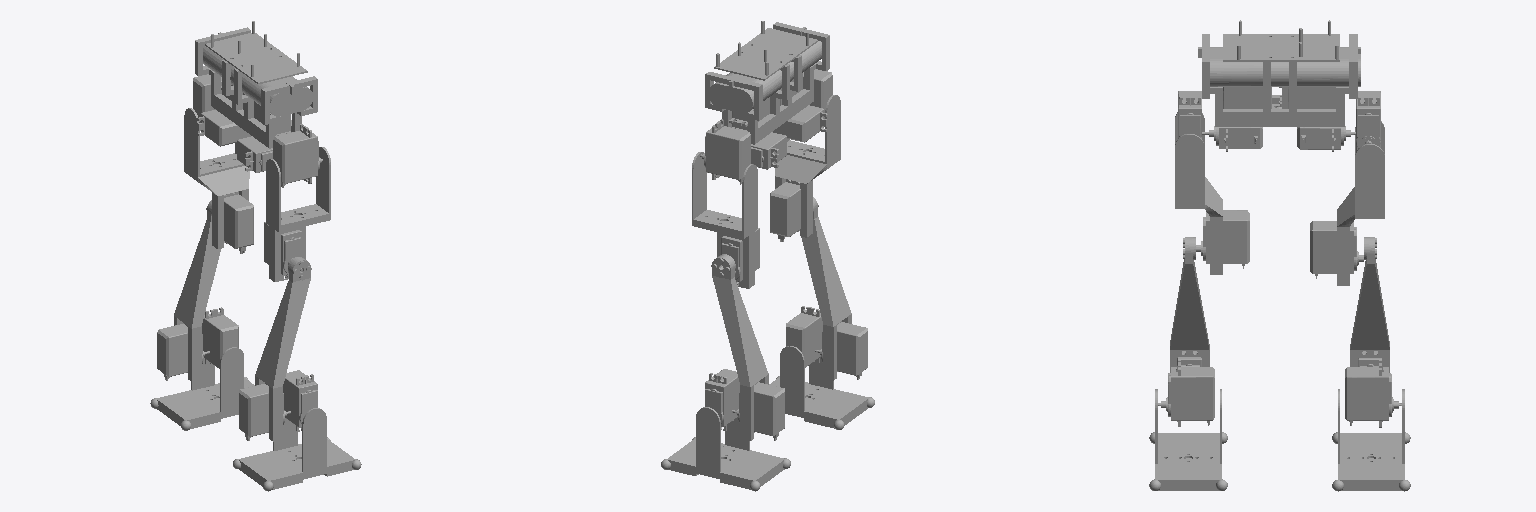
--- What the picture shows (computed from the rendered views, not written in the file) ---
The picture shows the robot from 3 angles, left to right: view 1: azimuth 30°, elevation 25°; view 2: azimuth 150°, elevation 25°; view 3: azimuth 270°, elevation 25°; orthographic projection.
Robot: URDF — 23 links, 22 joints (14 continuous, 8 fixed); root link base_link; default pose: every joint at zero.
Visible links, largest first — view 1: base_link, l5_1, r4_1, r5_1, l7_1, l4_1, r7_1, l3_1, r6_1, l6_1, r2_1, l2_1 (+1 smaller); view 2: base_link, r5_1, l5_1, l4_1, r7_1, r4_1, l7_1, r3_1, l6_1, r6_1, l2_1, r2_1 (+1 smaller); view 3: base_link, l4_1, r4_1, l7_1, r7_1, l5_1, r5_1, r6_1, l6_1, r3_1, r2_1, l2_1 (+1 smaller).
Boxes of the visible links, x1,y1,x2,y2 form: base_link: [195, 21, 317, 148]; l5_1: [239, 257, 311, 441]; r4_1: [184, 108, 253, 253]; r5_1: [157, 200, 220, 381]; l7_1: [239, 408, 355, 489]; l4_1: [264, 147, 330, 281]; r7_1: [156, 347, 254, 428]; l3_1: [273, 124, 322, 187]; r6_1: [202, 307, 238, 368]; l6_1: [283, 370, 317, 431]; r2_1: [197, 110, 250, 146]; l2_1: [237, 136, 272, 172]; base_link: [705, 21, 829, 144]; r5_1: [711, 254, 784, 440]; l5_1: [801, 197, 867, 380]; l4_1: [770, 95, 840, 241]; r7_1: [666, 407, 784, 489]; r4_1: [692, 152, 759, 288]; l7_1: [769, 346, 868, 428]; r3_1: [700, 119, 750, 184]; l6_1: [786, 306, 822, 367]; r6_1: [705, 369, 739, 431]; l2_1: [773, 105, 827, 142]; r2_1: [751, 132, 786, 169]; base_link: [1198, 20, 1360, 126]; l4_1: [1175, 112, 1249, 274]; r4_1: [1310, 121, 1384, 285]; l7_1: [1155, 389, 1221, 490]; r7_1: [1338, 389, 1404, 490]; l5_1: [1170, 237, 1209, 372]; r5_1: [1350, 237, 1389, 372]; r6_1: [1345, 360, 1401, 427]; l6_1: [1158, 360, 1214, 426]; r3_1: [1356, 91, 1380, 151]; r2_1: [1297, 126, 1355, 151]; l2_1: [1202, 126, 1262, 151].
Size in the robot's own frame: 0.11 by 0.2196 by 0.403 metres.
Meshes: 23 distinct files referenced, 23 mesh visuals loaded (23 binary STL).

The robot description file, URDF, robot "URDF":
<?xml version="1.0" ?>
<!-- =================================================================================== -->
<!-- |    This document was autogenerated by xacro from urdf/URDF.xacro                | -->
<!-- |    EDITING THIS FILE BY HAND IS NOT RECOMMENDED                                 | -->
<!-- =================================================================================== -->
<robot xmlns:xacro="http://www.ros.org/wiki/xacro" name="URDF">
  <material name="silver">
    <color rgba="0.700 0.700 0.700 1.000"/>
  </material>
  <transmission name="Revolute 46_tran">
    <type>transmission_interface/SimpleTransmission</type>
    <joint name="Revolute 46">
      <hardwareInterface>hardware_interface/EffortJointInterface</hardwareInterface>
    </joint>
    <actuator name="Revolute 46_actr">
      <hardwareInterface>hardware_interface/EffortJointInterface</hardwareInterface>
      <mechanicalReduction>1</mechanicalReduction>
    </actuator>
  </transmission>
  <transmission name="Revolute 54_tran">
    <type>transmission_interface/SimpleTransmission</type>
    <joint name="Revolute 54">
      <hardwareInterface>hardware_interface/EffortJointInterface</hardwareInterface>
    </joint>
    <actuator name="Revolute 54_actr">
      <hardwareInterface>hardware_interface/EffortJointInterface</hardwareInterface>
      <mechanicalReduction>1</mechanicalReduction>
    </actuator>
  </transmission>
  <transmission name="Revolute 66_tran">
    <type>transmission_interface/SimpleTransmission</type>
    <joint name="Revolute 66">
      <hardwareInterface>hardware_interface/EffortJointInterface</hardwareInterface>
    </joint>
    <actuator name="Revolute 66_actr">
      <hardwareInterface>hardware_interface/EffortJointInterface</hardwareInterface>
      <mechanicalReduction>1</mechanicalReduction>
    </actuator>
  </transmission>
  <transmission name="Revolute 67_tran">
    <type>transmission_interface/SimpleTransmission</type>
    <joint name="Revolute 67">
      <hardwareInterface>hardware_interface/EffortJointInterface</hardwareInterface>
    </joint>
    <actuator name="Revolute 67_actr">
      <hardwareInterface>hardware_interface/EffortJointInterface</hardwareInterface>
      <mechanicalReduction>1</mechanicalReduction>
    </actuator>
  </transmission>
  <transmission name="Revolute 68_tran">
    <type>transmission_interface/SimpleTransmission</type>
    <joint name="Revolute 68">
      <hardwareInterface>hardware_interface/EffortJointInterface</hardwareInterface>
    </joint>
    <actuator name="Revolute 68_actr">
      <hardwareInterface>hardware_interface/EffortJointInterface</hardwareInterface>
      <mechanicalReduction>1</mechanicalReduction>
    </actuator>
  </transmission>
  <transmission name="Revolute 69_tran">
    <type>transmission_interface/SimpleTransmission</type>
    <joint name="Revolute 69">
      <hardwareInterface>hardware_interface/EffortJointInterface</hardwareInterface>
    </joint>
    <actuator name="Revolute 69_actr">
      <hardwareInterface>hardware_interface/EffortJointInterface</hardwareInterface>
      <mechanicalReduction>1</mechanicalReduction>
    </actuator>
  </transmission>
  <transmission name="Revolute 70_tran">
    <type>transmission_interface/SimpleTransmission</type>
    <joint name="Revolute 70">
      <hardwareInterface>hardware_interface/EffortJointInterface</hardwareInterface>
    </joint>
    <actuator name="Revolute 70_actr">
      <hardwareInterface>hardware_interface/EffortJointInterface</hardwareInterface>
      <mechanicalReduction>1</mechanicalReduction>
    </actuator>
  </transmission>
  <transmission name="Revolute 71_tran">
    <type>transmission_interface/SimpleTransmission</type>
    <joint name="Revolute 71">
      <hardwareInterface>hardware_interface/EffortJointInterface</hardwareInterface>
    </joint>
    <actuator name="Revolute 71_actr">
      <hardwareInterface>hardware_interface/EffortJointInterface</hardwareInterface>
      <mechanicalReduction>1</mechanicalReduction>
    </actuator>
  </transmission>
  <transmission name="Revolute 72_tran">
    <type>transmission_interface/SimpleTransmission</type>
    <joint name="Revolute 72">
      <hardwareInterface>hardware_interface/EffortJointInterface</hardwareInterface>
    </joint>
    <actuator name="Revolute 72_actr">
      <hardwareInterface>hardware_interface/EffortJointInterface</hardwareInterface>
      <mechanicalReduction>1</mechanicalReduction>
    </actuator>
  </transmission>
  <transmission name="Revolute 73_tran">
    <type>transmission_interface/SimpleTransmission</type>
    <joint name="Revolute 73">
      <hardwareInterface>hardware_interface/EffortJointInterface</hardwareInterface>
    </joint>
    <actuator name="Revolute 73_actr">
      <hardwareInterface>hardware_interface/EffortJointInterface</hardwareInterface>
      <mechanicalReduction>1</mechanicalReduction>
    </actuator>
  </transmission>
  <transmission name="Revolute 90_tran">
    <type>transmission_interface/SimpleTransmission</type>
    <joint name="Revolute 90">
      <hardwareInterface>hardware_interface/EffortJointInterface</hardwareInterface>
    </joint>
    <actuator name="Revolute 90_actr">
      <hardwareInterface>hardware_interface/EffortJointInterface</hardwareInterface>
      <mechanicalReduction>1</mechanicalReduction>
    </actuator>
  </transmission>
  <transmission name="Revolute 91_tran">
    <type>transmission_interface/SimpleTransmission</type>
    <joint name="Revolute 91">
      <hardwareInterface>hardware_interface/EffortJointInterface</hardwareInterface>
    </joint>
    <actuator name="Revolute 91_actr">
      <hardwareInterface>hardware_interface/EffortJointInterface</hardwareInterface>
      <mechanicalReduction>1</mechanicalReduction>
    </actuator>
  </transmission>
  <transmission name="Revolute 92_tran">
    <type>transmission_interface/SimpleTransmission</type>
    <joint name="Revolute 92">
      <hardwareInterface>hardware_interface/EffortJointInterface</hardwareInterface>
    </joint>
    <actuator name="Revolute 92_actr">
      <hardwareInterface>hardware_interface/EffortJointInterface</hardwareInterface>
      <mechanicalReduction>1</mechanicalReduction>
    </actuator>
  </transmission>
  <transmission name="Revolute 93_tran">
    <type>transmission_interface/SimpleTransmission</type>
    <joint name="Revolute 93">
      <hardwareInterface>hardware_interface/EffortJointInterface</hardwareInterface>
    </joint>
    <actuator name="Revolute 93_actr">
      <hardwareInterface>hardware_interface/EffortJointInterface</hardwareInterface>
      <mechanicalReduction>1</mechanicalReduction>
    </actuator>
  </transmission>
  <gazebo>
    <plugin name="control" filename="libgazebo_ros_control.so"/>
  </gazebo>
  <gazebo reference="base_link">
    <material>Gazebo/Silver</material>
    <mu1>0.2</mu1>
    <mu2>0.2</mu2>
    <selfCollide>true</selfCollide>
    <gravity>true</gravity>
  </gazebo>
  <gazebo reference="l3_1">
    <material>Gazebo/Silver</material>
    <mu1>0.2</mu1>
    <mu2>0.2</mu2>
    <selfCollide>true</selfCollide>
  </gazebo>
  <gazebo reference="r3_1">
    <material>Gazebo/Silver</material>
    <mu1>0.2</mu1>
    <mu2>0.2</mu2>
    <selfCollide>true</selfCollide>
  </gazebo>
  <gazebo reference="l4_1">
    <material>Gazebo/Silver</material>
    <mu1>0.2</mu1>
    <mu2>0.2</mu2>
    <selfCollide>true</selfCollide>
  </gazebo>
  <gazebo reference="l5_1">
    <material>Gazebo/Silver</material>
    <mu1>0.2</mu1>
    <mu2>0.2</mu2>
    <selfCollide>true</selfCollide>
  </gazebo>
  <gazebo reference="l6_1">
    <material>Gazebo/Silver</material>
    <mu1>0.2</mu1>
    <mu2>0.2</mu2>
    <selfCollide>true</selfCollide>
  </gazebo>
  <gazebo reference="l7_1">
    <material>Gazebo/Silver</material>
    <mu1>0.2</mu1>
    <mu2>0.2</mu2>
    <selfCollide>true</selfCollide>
  </gazebo>
  <gazebo reference="r4_1">
    <material>Gazebo/Silver</material>
    <mu1>0.2</mu1>
    <mu2>0.2</mu2>
    <selfCollide>true</selfCollide>
  </gazebo>
  <gazebo reference="r5_1">
    <material>Gazebo/Silver</material>
    <mu1>0.2</mu1>
    <mu2>0.2</mu2>
    <selfCollide>true</selfCollide>
  </gazebo>
  <gazebo reference="r6_1">
    <material>Gazebo/Silver</material>
    <mu1>0.2</mu1>
    <mu2>0.2</mu2>
    <selfCollide>true</selfCollide>
  </gazebo>
  <gazebo reference="r7_1">
    <material>Gazebo/Silver</material>
    <mu1>0.2</mu1>
    <mu2>0.2</mu2>
    <selfCollide>true</selfCollide>
  </gazebo>
  <gazebo reference="r1_1">
    <material>Gazebo/Silver</material>
    <mu1>0.2</mu1>
    <mu2>0.2</mu2>
    <selfCollide>true</selfCollide>
  </gazebo>
  <gazebo reference="l1_1">
    <material>Gazebo/Silver</material>
    <mu1>0.2</mu1>
    <mu2>0.2</mu2>
    <selfCollide>true</selfCollide>
  </gazebo>
  <gazebo reference="l2_1">
    <material>Gazebo/Silver</material>
    <mu1>0.2</mu1>
    <mu2>0.2</mu2>
    <selfCollide>true</selfCollide>
  </gazebo>
  <gazebo reference="r2_1">
    <material>Gazebo/Silver</material>
    <mu1>0.2</mu1>
    <mu2>0.2</mu2>
    <selfCollide>true</selfCollide>
  </gazebo>
  <gazebo reference="Component135_1">
    <material>Gazebo/Silver</material>
    <mu1>0.2</mu1>
    <mu2>0.2</mu2>
    <selfCollide>true</selfCollide>
  </gazebo>
  <gazebo reference="Component136_1">
    <material>Gazebo/Silver</material>
    <mu1>0.2</mu1>
    <mu2>0.2</mu2>
    <selfCollide>true</selfCollide>
  </gazebo>
  <gazebo reference="Component137_1">
    <material>Gazebo/Silver</material>
    <mu1>0.2</mu1>
    <mu2>0.2</mu2>
    <selfCollide>true</selfCollide>
  </gazebo>
  <gazebo reference="Component138_1">
    <material>Gazebo/Silver</material>
    <mu1>0.2</mu1>
    <mu2>0.2</mu2>
    <selfCollide>true</selfCollide>
  </gazebo>
  <gazebo reference="Component139_1">
    <material>Gazebo/Silver</material>
    <mu1>0.2</mu1>
    <mu2>0.2</mu2>
    <selfCollide>true</selfCollide>
  </gazebo>
  <gazebo reference="Component140_1">
    <material>Gazebo/Silver</material>
    <mu1>0.2</mu1>
    <mu2>0.2</mu2>
    <selfCollide>true</selfCollide>
  </gazebo>
  <gazebo reference="Component141_1">
    <material>Gazebo/Silver</material>
    <mu1>0.2</mu1>
    <mu2>0.2</mu2>
    <selfCollide>true</selfCollide>
  </gazebo>
  <gazebo reference="Component142_1">
    <material>Gazebo/Silver</material>
    <mu1>0.2</mu1>
    <mu2>0.2</mu2>
    <selfCollide>true</selfCollide>
  </gazebo>
  <link name="base_link">
    <inertial>
      <origin xyz="-0.011771950657531978 0.009504064144816108 0.37571758600306054" rpy="0 0 0"/>
      <mass value="1.511497628813241"/>
      <inertia ixx="0.002624" iyy="0.000685" izz="0.00252" ixy="-0.0" iyz="-1e-05" ixz="-1e-06"/>
    </inertial>
    <visual>
      <origin xyz="0 0 0" rpy="0 0 0"/>
      <geometry>
        <mesh filename="package://URDF_description/meshes/base_link.stl" scale="0.001 0.001 0.001"/>
      </geometry>
      <material name="silver"/>
    </visual>
    <collision>
      <origin xyz="0 0 0" rpy="0 0 0"/>
      <geometry>
        <mesh filename="package://URDF_description/meshes/base_link.stl" scale="0.001 0.001 0.001"/>
      </geometry>
    </collision>
  </link>
  <link name="l3_1">
    <inertial>
      <origin xyz="-0.0010554319034483655 -0.010177955025811834 0.009960650853470643" rpy="0 0 0"/>
      <mass value="0.2605710862815951"/>
      <inertia ixx="4.6e-05" iyy="7.1e-05" izz="4.2e-05" ixy="0.0" iyz="-0.0" ixz="1e-06"/>
    </inertial>
    <visual>
      <origin xyz="0.01125 0.056859 -0.309943" rpy="0 0 0"/>
      <geometry>
        <mesh filename="package://URDF_description/meshes/l3_1.stl" scale="0.001 0.001 0.001"/>
      </geometry>
      <material name="silver"/>
    </visual>
    <collision>
      <origin xyz="0.01125 0.056859 -0.309943" rpy="0 0 0"/>
      <geometry>
        <mesh filename="package://URDF_description/meshes/l3_1.stl" scale="0.001 0.001 0.001"/>
      </geometry>
    </collision>
  </link>
  <link name="r3_1">
    <inertial>
      <origin xyz="-0.0013721079730043672 0.010183257082743855 0.009960176961555767" rpy="0 0 0"/>
      <mass value="0.26058347817133687"/>
      <inertia ixx="4.6e-05" iyy="7.1e-05" izz="4.2e-05" ixy="-0.0" iyz="0.0" ixz="1e-06"/>
    </inertial>
    <visual>
      <origin xyz="0.010932 -0.07264 -0.309936" rpy="0 0 0"/>
      <geometry>
        <mesh filename="package://URDF_description/meshes/r3_1.stl" scale="0.001 0.001 0.001"/>
      </geometry>
      <material name="silver"/>
    </visual>
    <collision>
      <origin xyz="0.010932 -0.07264 -0.309936" rpy="0 0 0"/>
      <geometry>
        <mesh filename="package://URDF_description/meshes/r3_1.stl" scale="0.001 0.001 0.001"/>
      </geometry>
    </collision>
  </link>
  <link name="l4_1">
    <inertial>
      <origin xyz="-0.025108010465582926 0.020534482343404367 -0.07938539914440731" rpy="0 0 0"/>
      <mass value="0.4795683297989441"/>
      <inertia ixx="0.0005" iyy="0.000461" izz="0.000198" ixy="-3e-06" iyz="0.000142" ixz="6e-06"/>
    </inertial>
    <visual>
      <origin xyz="-0.015754 0.067037 -0.309943" rpy="0 0 0"/>
      <geometry>
        <mesh filename="package://URDF_description/meshes/l4_1.stl" scale="0.001 0.001 0.001"/>
      </geometry>
      <material name="silver"/>
    </visual>
    <collision>
      <origin xyz="-0.015754 0.067037 -0.309943" rpy="0 0 0"/>
      <geometry>
        <mesh filename="package://URDF_description/meshes/l4_1.stl" scale="0.001 0.001 0.001"/>
      </geometry>
    </collision>
  </link>
  <link name="l5_1">
    <inertial>
      <origin xyz="-0.029491082579912755 0.0039567541577464616 -0.10160071158979485" rpy="0 0 0"/>
      <mass value="0.5723786894338777"/>
      <inertia ixx="0.001158" iyy="0.001268" izz="0.00017" ixy="1e-06" iyz="2e-06" ixz="-0.000323"/>
    </inertial>
    <visual>
      <origin xyz="0.009024 0.071577 -0.204349" rpy="0 0 0"/>
      <geometry>
        <mesh filename="package://URDF_description/meshes/l5_1.stl" scale="0.001 0.001 0.001"/>
      </geometry>
      <material name="silver"/>
    </visual>
    <collision>
      <origin xyz="0.009024 0.071577 -0.204349" rpy="0 0 0"/>
      <geometry>
        <mesh filename="package://URDF_description/meshes/l5_1.stl" scale="0.001 0.001 0.001"/>
      </geometry>
    </collision>
  </link>
  <link name="l6_1">
    <inertial>
      <origin xyz="0.010148909868078046 0.0014454123231732174 0.009960197157854983" rpy="0 0 0"/>
      <mass value="0.260583085238151"/>
      <inertia ixx="7.1e-05" iyy="4.6e-05" izz="4.2e-05" ixy="0.0" iyz="-1e-06" ixz="0.0"/>
    </inertial>
    <visual>
      <origin xyz="0.018503 0.067568 -0.059644" rpy="0 0 0"/>
      <geometry>
        <mesh filename="package://URDF_description/meshes/l6_1.stl" scale="0.001 0.001 0.001"/>
      </geometry>
      <material name="silver"/>
    </visual>
    <collision>
      <origin xyz="0.018503 0.067568 -0.059644" rpy="0 0 0"/>
      <geometry>
        <mesh filename="package://URDF_description/meshes/l6_1.stl" scale="0.001 0.001 0.001"/>
      </geometry>
    </collision>
  </link>
  <link name="l7_1">
    <inertial>
      <origin xyz="-0.0038360250370360807 0.0260878632088187 -0.05053371254011363" rpy="0 0 0"/>
      <mass value="0.42535185084301863"/>
      <inertia ixx="0.000201" iyy="0.000374" izz="0.000441" ixy="-0.0" iyz="-0.0" ixz="-5e-06"/>
    </inertial>
    <visual>
      <origin xyz="0.008354 0.094498 -0.059644" rpy="0 0 0"/>
      <geometry>
        <mesh filename="package://URDF_description/meshes/l7_1.stl" scale="0.001 0.001 0.001"/>
      </geometry>
      <material name="silver"/>
    </visual>
    <collision>
      <origin xyz="0.008354 0.094498 -0.059644" rpy="0 0 0"/>
      <geometry>
        <mesh filename="package://URDF_description/meshes/l7_1.stl" scale="0.001 0.001 0.001"/>
      </geometry>
    </collision>
  </link>
  <link name="r4_1">
    <inertial>
      <origin xyz="-0.025086134509350884 -0.019584458432277033 -0.079385774761916" rpy="0 0 0"/>
      <mass value="0.4795660415586759"/>
      <inertia ixx="0.0005" iyy="0.000461" izz="0.000198" ixy="3e-06" iyz="-0.000142" ixz="6e-06"/>
    </inertial>
    <visual>
      <origin xyz="-0.016072 -0.082823 -0.309936" rpy="0 0 0"/>
      <geometry>
        <mesh filename="package://URDF_description/meshes/r4_1.stl" scale="0.001 0.001 0.001"/>
      </geometry>
      <material name="silver"/>
    </visual>
    <collision>
      <origin xyz="-0.016072 -0.082823 -0.309936" rpy="0 0 0"/>
      <geometry>
        <mesh filename="package://URDF_description/meshes/r4_1.stl" scale="0.001 0.001 0.001"/>
      </geometry>
    </collision>
  </link>
  <link name="r5_1">
    <inertial>
      <origin xyz="-0.029491076838213486 -0.003956632577474542 -0.10160065771634212" rpy="0 0 0"/>
      <mass value="0.5723780660401575"/>
      <inertia ixx="0.001158" iyy="0.001268" izz="0.00017" ixy="-1e-06" iyz="-2e-06" ixz="-0.000323"/>
    </inertial>
    <visual>
      <origin xyz="0.008684 -0.088313 -0.204342" rpy="0 0 0"/>
      <geometry>
        <mesh filename="package://URDF_description/meshes/r5_1.stl" scale="0.001 0.001 0.001"/>
      </geometry>
      <material name="silver"/>
    </visual>
    <collision>
      <origin xyz="0.008684 -0.088313 -0.204342" rpy="0 0 0"/>
      <geometry>
        <mesh filename="package://URDF_description/meshes/r5_1.stl" scale="0.001 0.001 0.001"/>
      </geometry>
    </collision>
  </link>
  <link name="r6_1">
    <inertial>
      <origin xyz="0.010216801636088587 -0.0014452836669605895 0.009960098254530765" rpy="0 0 0"/>
      <mass value="0.26058568857338693"/>
      <inertia ixx="7.1e-05" iyy="4.6e-05" izz="4.2e-05" ixy="-0.0" iyz="1e-06" ixz="0.0"/>
    </inertial>
    <visual>
      <origin xyz="0.018163 -0.084304 -0.059637" rpy="0 0 0"/>
      <geometry>
        <mesh filename="package://URDF_description/meshes/r6_1.stl" scale="0.001 0.001 0.001"/>
      </geometry>
      <material name="silver"/>
    </visual>
    <collision>
      <origin xyz="0.018163 -0.084304 -0.059637" rpy="0 0 0"/>
      <geometry>
        <mesh filename="package://URDF_description/meshes/r6_1.stl" scale="0.001 0.001 0.001"/>
      </geometry>
    </collision>
  </link>
  <link name="r7_1">
    <inertial>
      <origin xyz="-0.003836011886673152 -0.025999620351597932 -0.05053346533032452" rpy="0 0 0"/>
      <mass value="0.42535393165731183"/>
      <inertia ixx="0.000201" iyy="0.000374" izz="0.000441" ixy="0.0" iyz="0.0" ixz="-5e-06"/>
    </inertial>
    <visual>
      <origin xyz="0.007946 -0.111234 -0.059637" rpy="0 0 0"/>
      <geometry>
        <mesh filename="package://URDF_description/meshes/r7_1.stl" scale="0.001 0.001 0.001"/>
      </geometry>
      <material name="silver"/>
    </visual>
    <collision>
      <origin xyz="0.007946 -0.111234 -0.059637" rpy="0 0 0"/>
      <geometry>
        <mesh filename="package://URDF_description/meshes/r7_1.stl" scale="0.001 0.001 0.001"/>
      </geometry>
    </collision>
  </link>
  <link name="r1_1">
    <inertial>
      <origin xyz="0.0004996878831269973 0.02734500634448448 0.008967935691079287" rpy="0 0 0"/>
      <mass value="0.260645951134301"/>
      <inertia ixx="7.1e-05" iyy="4.2e-05" izz="4.6e-05" ixy="0.0" iyz="1e-06" ixz="0.0"/>
    </inertial>
    <visual>
      <origin xyz="0.011804 -0.008368 -0.341585" rpy="0 0 0"/>
      <geometry>
        <mesh filename="package://URDF_description/meshes/r1_1.stl" scale="0.001 0.001 0.001"/>
      </geometry>
      <material name="silver"/>
    </visual>
    <collision>
      <origin xyz="0.011804 -0.008368 -0.341585" rpy="0 0 0"/>
      <geometry>
        <mesh filename="package://URDF_description/meshes/r1_1.stl" scale="0.001 0.001 0.001"/>
      </geometry>
    </collision>
  </link>
  <link name="l1_1">
    <inertial>
      <origin xyz="0.0001816438125570169 -0.027343644786196337 0.008967461952591682" rpy="0 0 0"/>
      <mass value="0.260658112795213"/>
      <inertia ixx="7.1e-05" iyy="4.2e-05" izz="4.6e-05" ixy="-0.0" iyz="-1e-06" ixz="0.0"/>
    </inertial>
    <visual>
      <origin xyz="0.011804 -0.008368 -0.341585" rpy="0 0 0"/>
      <geometry>
        <mesh filename="package://URDF_description/meshes/l1_1.stl" scale="0.001 0.001 0.001"/>
      </geometry>
      <material name="silver"/>
    </visual>
    <collision>
      <origin xyz="0.011804 -0.008368 -0.341585" rpy="0 0 0"/>
      <geometry>
        <mesh filename="package://URDF_description/meshes/l1_1.stl" scale="0.001 0.001 0.001"/>
      </geometry>
    </collision>
  </link>
  <link name="l2_1">
    <inertial>
      <origin xyz="-0.009584482225170093 0.002892011357414799 -0.010241995308191532" rpy="0 0 0"/>
      <mass value="0.2606766909017712"/>
      <inertia ixx="4.2e-05" iyy="4.6e-05" izz="7.1e-05" ixy="1e-06" iyz="-0.0" ixz="0.0"/>
    </inertial>
    <visual>
      <origin xyz="0.011622 0.028932 -0.320185" rpy="0 0 0"/>
      <geometry>
        <mesh filename="package://URDF_description/meshes/l2_1.stl" scale="0.001 0.001 0.001"/>
      </geometry>
      <material name="silver"/>
    </visual>
    <collision>
      <origin xyz="0.011622 0.028932 -0.320185" rpy="0 0 0"/>
      <geometry>
        <mesh filename="package://URDF_description/meshes/l2_1.stl" scale="0.001 0.001 0.001"/>
      </geometry>
    </collision>
  </link>
  <link name="r2_1">
    <inertial>
      <origin xyz="-0.00958582114085108 -0.0028961550072012995 -0.010248919205406881" rpy="0 0 0"/>
      <mass value="0.2606418768017664"/>
      <inertia ixx="4.2e-05" iyy="4.6e-05" izz="7.1e-05" ixy="-1e-06" iyz="0.0" ixz="0.0"/>
    </inertial>
    <visual>
      <origin xyz="0.011304 -0.045668 -0.320185" rpy="0 0 0"/>
      <geometry>
        <mesh filename="package://URDF_description/meshes/r2_1.stl" scale="0.001 0.001 0.001"/>
      </geometry>
      <material name="silver"/>
    </visual>
    <collision>
      <origin xyz="0.011304 -0.045668 -0.320185" rpy="0 0 0"/>
      <geometry>
        <mesh filename="package://URDF_description/meshes/r2_1.stl" scale="0.001 0.001 0.001"/>
      </geometry>
    </collision>
  </link>
  <link name="Component135_1">
    <inertial>
      <origin xyz="2.3019366229143357e-07 -3.5453788085892946e-07 8.673617379884035e-18" rpy="0 0 0"/>
      <mass value="0.004110250388446646"/>
      <inertia ixx="0.0" iyy="0.0" izz="0.0" ixy="0.0" iyz="-0.0" ixz="0.0"/>
    </inertial>
    <visual>
      <origin xyz="-0.034846 0.09641 -0.005" rpy="0 0 0"/>
      <geometry>
        <mesh filename="package://URDF_description/meshes/Component135_1.stl" scale="0.001 0.001 0.001"/>
      </geometry>
      <material name="silver"/>
    </visual>
    <collision>
      <origin xyz="-0.034846 0.09641 -0.005" rpy="0 0 0"/>
      <geometry>
        <mesh filename="package://URDF_description/meshes/Component135_1.stl" scale="0.001 0.001 0.001"/>
      </geometry>
    </collision>
  </link>
  <link name="Component136_1">
    <inertial>
      <origin xyz="2.3019366243715034e-07 -3.545378806646404e-07 6.938893903907228e-18" rpy="0 0 0"/>
      <mass value="0.004110250388446646"/>
      <inertia ixx="0.0" iyy="0.0" izz="0.0" ixy="-0.0" iyz="-0.0" ixz="0.0"/>
    </inertial>
    <visual>
      <origin xyz="-0.034846 0.04041 -0.005" rpy="0 0 0"/>
      <geometry>
        <mesh filename="package://URDF_description/meshes/Component136_1.stl" scale="0.001 0.001 0.001"/>
      </geometry>
      <material name="silver"/>
    </visual>
    <collision>
      <origin xyz="-0.034846 0.04041 -0.005" rpy="0 0 0"/>
      <geometry>
        <mesh filename="package://URDF_description/meshes/Component136_1.stl" scale="0.001 0.001 0.001"/>
      </geometry>
    </collision>
  </link>
  <link name="Component137_1">
    <inertial>
      <origin xyz="-6.809328641915746e-08 -3.5453788074790715e-07 -3.0357660829594124e-17" rpy="0 0 0"/>
      <mass value="0.004110250388446646"/>
      <inertia ixx="0.0" iyy="0.0" izz="0.0" ixy="-0.0" iyz="-0.0" ixz="0.0"/>
    </inertial>
    <visual>
      <origin xyz="0.059376 0.09641 -0.005" rpy="0 0 0"/>
      <geometry>
        <mesh filename="package://URDF_description/meshes/Component137_1.stl" scale="0.001 0.001 0.001"/>
      </geometry>
      <material name="silver"/>
    </visual>
    <collision>
      <origin xyz="0.059376 0.09641 -0.005" rpy="0 0 0"/>
      <geometry>
        <mesh filename="package://URDF_description/meshes/Component137_1.stl" scale="0.001 0.001 0.001"/>
      </geometry>
    </collision>
  </link>
  <link name="Component138_1">
    <inertial>
      <origin xyz="-6.809328703671902e-08 -3.545378805952515e-07 -3.209238430557093e-17" rpy="0 0 0"/>
      <mass value="0.004110250388446646"/>
      <inertia ixx="0.0" iyy="0.0" izz="0.0" ixy="0.0" iyz="0.0" ixz="0.0"/>
    </inertial>
    <visual>
      <origin xyz="0.059376 0.04041 -0.005" rpy="0 0 0"/>
      <geometry>
        <mesh filename="package://URDF_description/meshes/Component138_1.stl" scale="0.001 0.001 0.001"/>
      </geometry>
      <material name="silver"/>
    </visual>
    <collision>
      <origin xyz="0.059376 0.04041 -0.005" rpy="0 0 0"/>
      <geometry>
        <mesh filename="package://URDF_description/meshes/Component138_1.stl" scale="0.001 0.001 0.001"/>
      </geometry>
    </collision>
  </link>
  <link name="Component139_1">
    <inertial>
      <origin xyz="-7.370735422007613e-08 4.699046756151404e-07 3.877106968808164e-16" rpy="0 0 0"/>
      <mass value="0.004110250388446646"/>
      <inertia ixx="0.0" iyy="0.0" izz="0.0" ixy="-0.0" iyz="0.0" ixz="-0.0"/>
    </inertial>
    <visual>
      <origin xyz="0.058968 -0.057234 -0.004993" rpy="0 0 0"/>
      <geometry>
        <mesh filename="package://URDF_description/meshes/Component139_1.stl" scale="0.001 0.001 0.001"/>
      </geometry>
      <material name="silver"/>
    </visual>
    <collision>
      <origin xyz="0.058968 -0.057234 -0.004993" rpy="0 0 0"/>
      <geometry>
        <mesh filename="package://URDF_description/meshes/Component139_1.stl" scale="0.001 0.001 0.001"/>
      </geometry>
    </collision>
  </link>
  <link name="Component140_1">
    <inertial>
      <origin xyz="-7.370735562867159e-08 4.6990467575391826e-07 5.386316392907986e-16" rpy="0 0 0"/>
      <mass value="0.004110250388446646"/>
      <inertia ixx="0.0" iyy="0.0" izz="0.0" ixy="-0.0" iyz="0.0" ixz="0.0"/>
    </inertial>
    <visual>
      <origin xyz="0.058968 -0.113234 -0.004993" rpy="0 0 0"/>
      <geometry>
        <mesh filename="package://URDF_description/meshes/Component140_1.stl" scale="0.001 0.001 0.001"/>
      </geometry>
      <material name="silver"/>
    </visual>
    <collision>
      <origin xyz="0.058968 -0.113234 -0.004993" rpy="0 0 0"/>
      <geometry>
        <mesh filename="package://URDF_description/meshes/Component140_1.stl" scale="0.001 0.001 0.001"/>
      </geometry>
    </collision>
  </link>
  <link name="Component141_1">
    <inertial>
      <origin xyz="2.2457959308191944e-07 4.69904679237243e-07 5.776629175002768e-16" rpy="0 0 0"/>
      <mass value="0.004110250388446646"/>
      <inertia ixx="0.0" iyy="0.0" izz="0.0" ixy="0.0" iyz="0.0" ixz="0.0"/>
    </inertial>
    <visual>
      <origin xyz="-0.035254 -0.113234 -0.004993" rpy="0 0 0"/>
      <geometry>
        <mesh filename="package://URDF_description/meshes/Component141_1.stl" scale="0.001 0.001 0.001"/>
      </geometry>
      <material name="silver"/>
    </visual>
    <collision>
      <origin xyz="-0.035254 -0.113234 -0.004993" rpy="0 0 0"/>
      <geometry>
        <mesh filename="package://URDF_description/meshes/Component141_1.stl" scale="0.001 0.001 0.001"/>
      </geometry>
    </collision>
  </link>
  <link name="Component142_1">
    <inertial>
      <origin xyz="2.2457959523991544e-07 4.6990467907764844e-07 4.2760933682828295e-16" rpy="0 0 0"/>
      <mass value="0.004110250388446646"/>
      <inertia ixx="0.0" iyy="0.0" izz="0.0" ixy="-0.0" iyz="0.0" ixz="0.0"/>
    </inertial>
    <visual>
      <origin xyz="-0.035254 -0.057234 -0.004993" rpy="0 0 0"/>
      <geometry>
        <mesh filename="package://URDF_description/meshes/Component142_1.stl" scale="0.001 0.001 0.001"/>
      </geometry>
      <material name="silver"/>
    </visual>
    <collision>
      <origin xyz="-0.035254 -0.057234 -0.004993" rpy="0 0 0"/>
      <geometry>
        <mesh filename="package://URDF_description/meshes/Component142_1.stl" scale="0.001 0.001 0.001"/>
      </geometry>
    </collision>
  </link>
  <joint name="Revolute 46" type="continuous">
    <origin xyz="0.000372 -0.027927 -0.010242" rpy="0 0 0"/>
    <parent link="l2_1"/>
    <child link="l3_1"/>
    <axis xyz="-0.0 -1.0 -0.0"/>
  </joint>
  <joint name="Revolute 54" type="continuous">
    <origin xyz="0.000372 0.026972 -0.010249" rpy="0 0 0"/>
    <parent link="r2_1"/>
    <child link="r3_1"/>
    <axis xyz="-0.0 1.0 0.0"/>
  </joint>
  <joint name="Revolute 66" type="continuous">
    <origin xyz="0.027004 -0.010178 0.0" rpy="0 0 0"/>
    <parent link="l3_1"/>
    <child link="l4_1"/>
    <axis xyz="1.0 0.0 -0.0"/>
  </joint>
  <joint name="Revolute 67" type="continuous">
    <origin xyz="-0.024778 -0.00454 -0.105594" rpy="0 0 0"/>
    <parent link="l4_1"/>
    <child link="l5_1"/>
    <axis xyz="-0.0 -1.0 0.0"/>
  </joint>
  <joint name="Revolute 68" type="continuous">
    <origin xyz="-0.009479 0.004009 -0.144705" rpy="0 0 0"/>
    <parent link="l5_1"/>
    <child link="l6_1"/>
    <axis xyz="1.0 0.0 0.0"/>
  </joint>
  <joint name="Revolute 69" type="continuous">
    <origin xyz="0.010149 -0.02693 0.0" rpy="0 0 0"/>
    <parent link="l6_1"/>
    <child link="l7_1"/>
    <axis xyz="0.0 -1.0 0.0"/>
  </joint>
  <joint name="Revolute 70" type="continuous">
    <origin xyz="0.027004 0.010183 0.0" rpy="0 0 0"/>
    <parent link="r3_1"/>
    <child link="r4_1"/>
    <axis xyz="1.0 0.0 -0.0"/>
  </joint>
  <joint name="Revolute 71" type="continuous">
    <origin xyz="-0.024756 0.00549 -0.105594" rpy="0 0 0"/>
    <parent link="r4_1"/>
    <child link="r5_1"/>
    <axis xyz="-0.0 1.0 0.0"/>
  </joint>
  <joint name="Revolute 72" type="continuous">
    <origin xyz="-0.009479 -0.004009 -0.144705" rpy="0 0 0"/>
    <parent link="r5_1"/>
    <child link="r6_1"/>
    <axis xyz="1.0 0.0 -0.0"/>
  </joint>
  <joint name="Revolute 73" type="continuous">
    <origin xyz="0.010217 0.02693 0.0" rpy="0 0 0"/>
    <parent link="r6_1"/>
    <child link="r7_1"/>
    <axis xyz="-0.0 1.0 0.0"/>
  </joint>
  <joint name="Revolute 90" type="continuous">
    <origin xyz="-0.011804 0.008368 0.341585" rpy="0 0 0"/>
    <parent link="base_link"/>
    <child link="r1_1"/>
    <axis xyz="0.0 0.0 1.0"/>
  </joint>
  <joint name="Revolute 91" type="continuous">
    <origin xyz="-0.011804 0.008368 0.341585" rpy="0 0 0"/>
    <parent link="base_link"/>
    <child link="l1_1"/>
    <axis xyz="0.0 0.0 1.0"/>
  </joint>
  <joint name="Revolute 92" type="continuous">
    <origin xyz="0.000182 -0.0373 -0.0214" rpy="0 0 0"/>
    <parent link="l1_1"/>
    <child link="l2_1"/>
    <axis xyz="-0.0 -0.0 -1.0"/>
  </joint>
  <joint name="Revolute 93" type="continuous">
    <origin xyz="0.0005 0.0373 -0.0214" rpy="0 0 0"/>
    <parent link="r1_1"/>
    <child link="r2_1"/>
    <axis xyz="-0.0 0.0 -1.0"/>
  </joint>
  <joint name="Rigid 94" type="fixed">
    <origin xyz="0.0432 -0.001912 -0.054644" rpy="0 0 0"/>
    <parent link="l7_1"/>
    <child link="Component135_1"/>
  </joint>
  <joint name="Rigid 95" type="fixed">
    <origin xyz="0.0432 0.054088 -0.054644" rpy="0 0 0"/>
    <parent link="l7_1"/>
    <child link="Component136_1"/>
  </joint>
  <joint name="Rigid 96" type="fixed">
    <origin xyz="-0.051022 -0.001912 -0.054644" rpy="0 0 0"/>
    <parent link="l7_1"/>
    <child link="Component137_1"/>
  </joint>
  <joint name="Rigid 97" type="fixed">
    <origin xyz="-0.051022 0.054088 -0.054644" rpy="0 0 0"/>
    <parent link="l7_1"/>
    <child link="Component138_1"/>
  </joint>
  <joint name="Rigid 98" type="fixed">
    <origin xyz="-0.051022 -0.054 -0.054644" rpy="0 0 0"/>
    <parent link="r7_1"/>
    <child link="Component139_1"/>
  </joint>
  <joint name="Rigid 99" type="fixed">
    <origin xyz="-0.051022 0.002 -0.054644" rpy="0 0 0"/>
    <parent link="r7_1"/>
    <child link="Component140_1"/>
  </joint>
  <joint name="Rigid 100" type="fixed">
    <origin xyz="0.0432 0.002 -0.054644" rpy="0 0 0"/>
    <parent link="r7_1"/>
    <child link="Component141_1"/>
  </joint>
  <joint name="Rigid 101" type="fixed">
    <origin xyz="0.0432 -0.054 -0.054644" rpy="0 0 0"/>
    <parent link="r7_1"/>
    <child link="Component142_1"/>
  </joint>
</robot>
